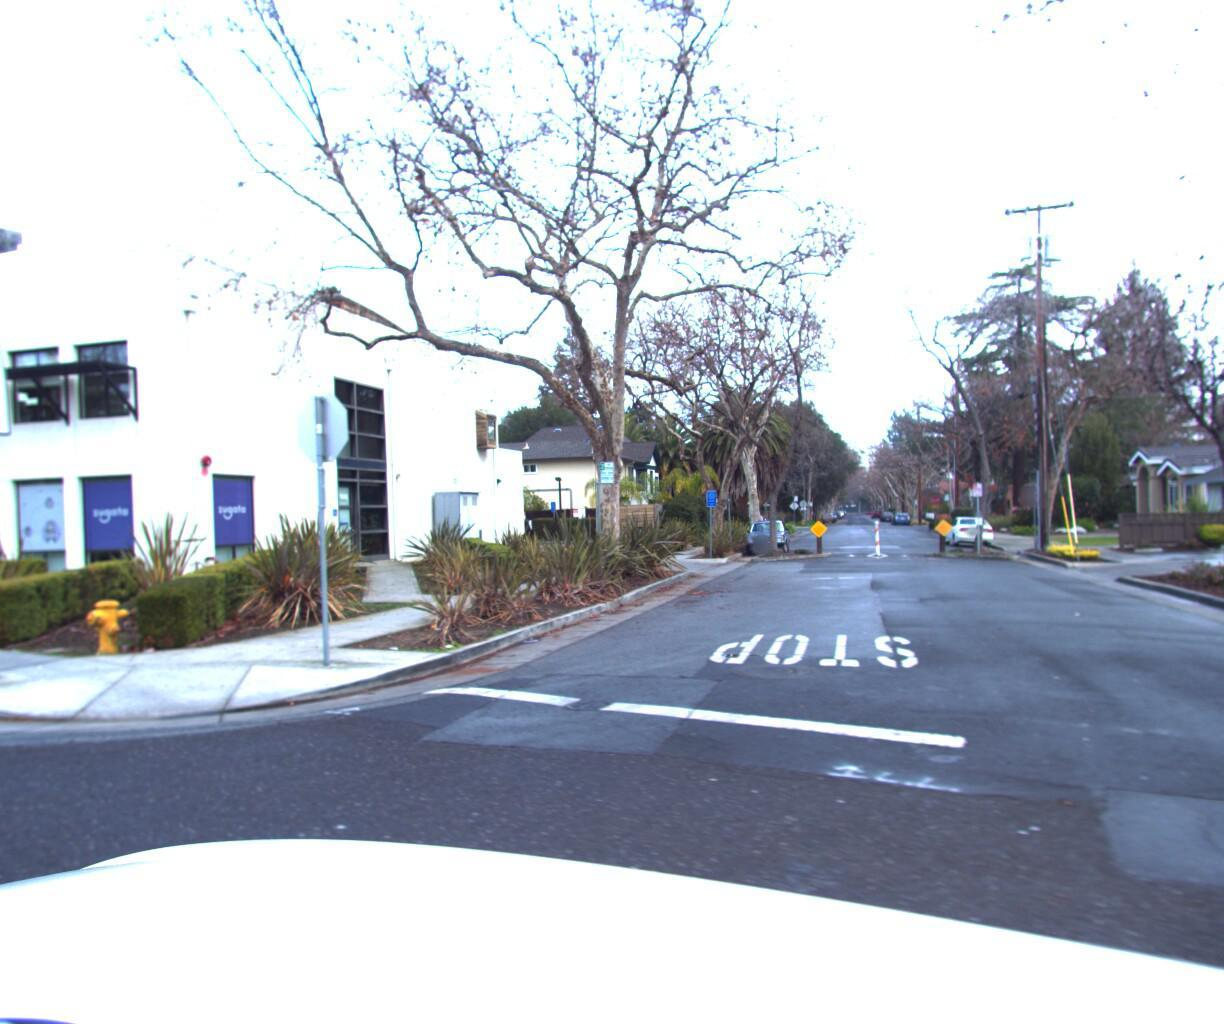car: (739, 514, 793, 555), (938, 513, 999, 547)
